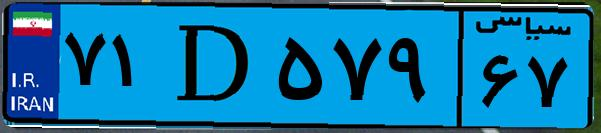1: (110, 28, 158, 98)
5: (270, 28, 330, 110)
6: (475, 38, 525, 113)
7: (330, 28, 385, 110), (57, 26, 110, 100), (525, 38, 570, 115)
9: (385, 28, 445, 110)
D: (158, 12, 270, 120)
